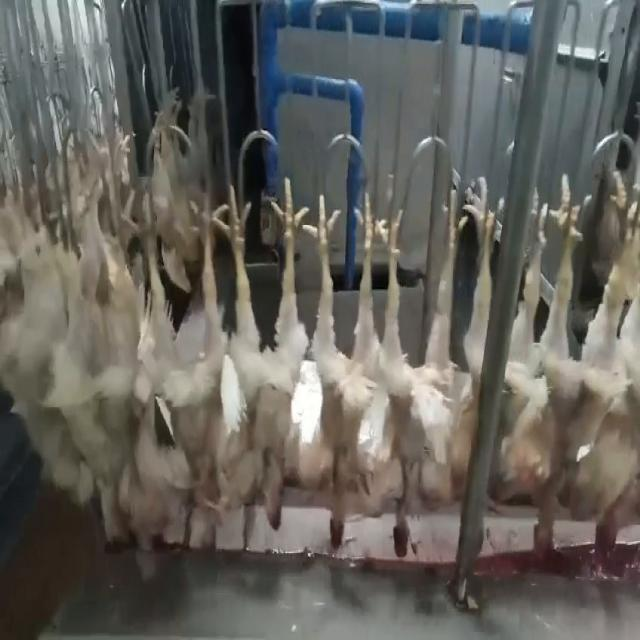chicken: (380, 157, 476, 554), (124, 174, 228, 536), (493, 175, 581, 568), (299, 180, 385, 551), (225, 169, 302, 535), (576, 170, 639, 564)
